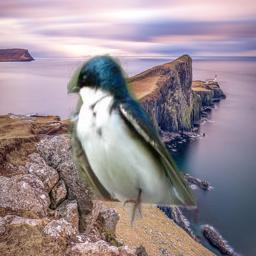Swallow: (67, 53, 197, 231)
